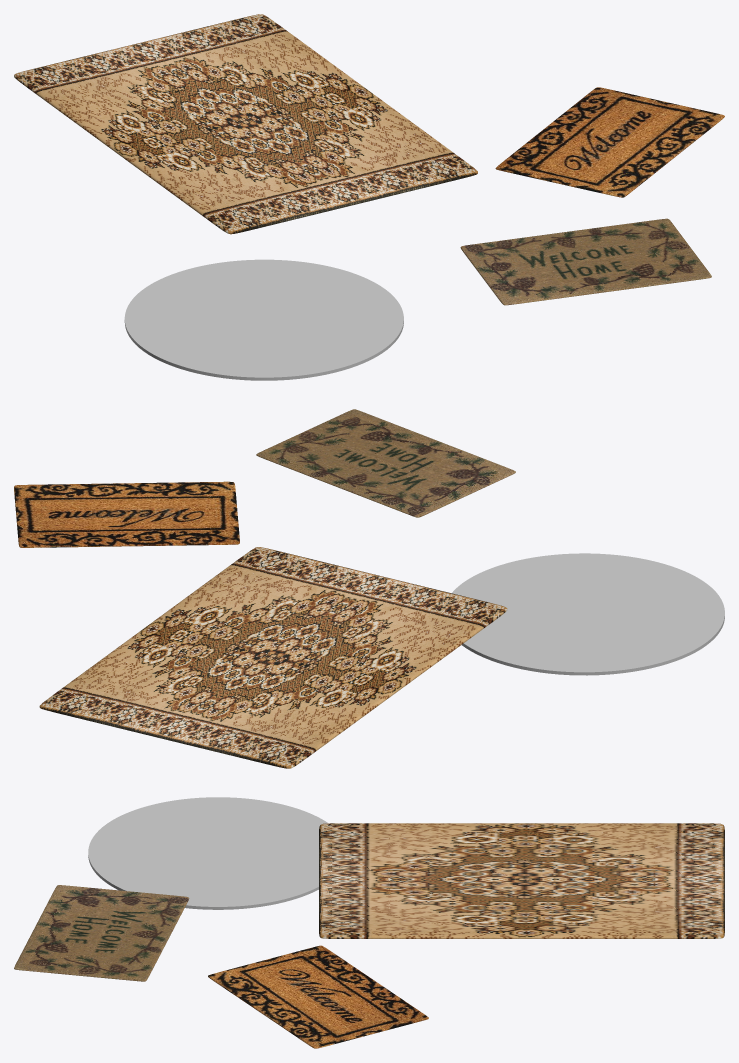
File: Teppich Türmatte.FBX
3 renders of one model, top to bottom at view 1: azimuth 30°, elevation 25°; view 2: azimuth 150°, elevation 25°; view 3: azimuth 270°, elevation 25°, orthographic. The views are drawn at different scales.
Visible parts, largest first — view 1: Box004, Cylinder001, Box003, Box002; view 2: Box004, Cylinder001, Box003, Box002; view 3: Box004, Cylinder001, Box002, Box003.
Part boxes in pixels (x1,y1,x2,y2): Box004: [14, 14, 477, 234]; Cylinder001: [124, 259, 403, 380]; Box003: [460, 218, 711, 305]; Box002: [495, 87, 724, 197]; Box004: [39, 547, 507, 768]; Cylinder001: [452, 553, 724, 675]; Box003: [256, 409, 515, 517]; Box002: [14, 481, 239, 547]; Box004: [319, 823, 724, 938]; Cylinder001: [88, 797, 328, 909]; Box002: [208, 945, 428, 1048]; Box003: [14, 885, 189, 981].
Bounding box in the file's own units: 99 × 6.66 × 103.
